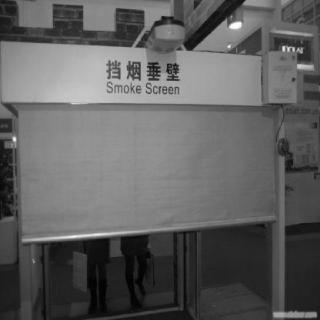other: (1, 40, 263, 111), (71, 249, 90, 291), (273, 129, 297, 160), (271, 86, 297, 106)
